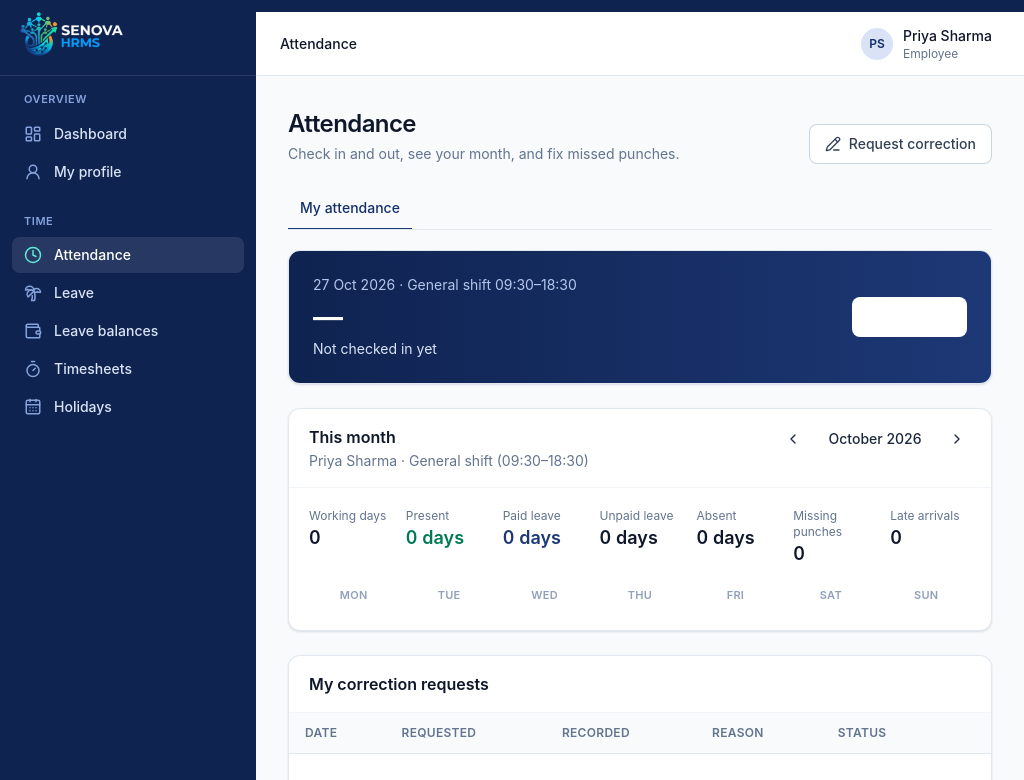
it: attendance › checks in and then offers break and check-out
Click the button "Check in".
click(910, 317)  # box [852,297,967,337]
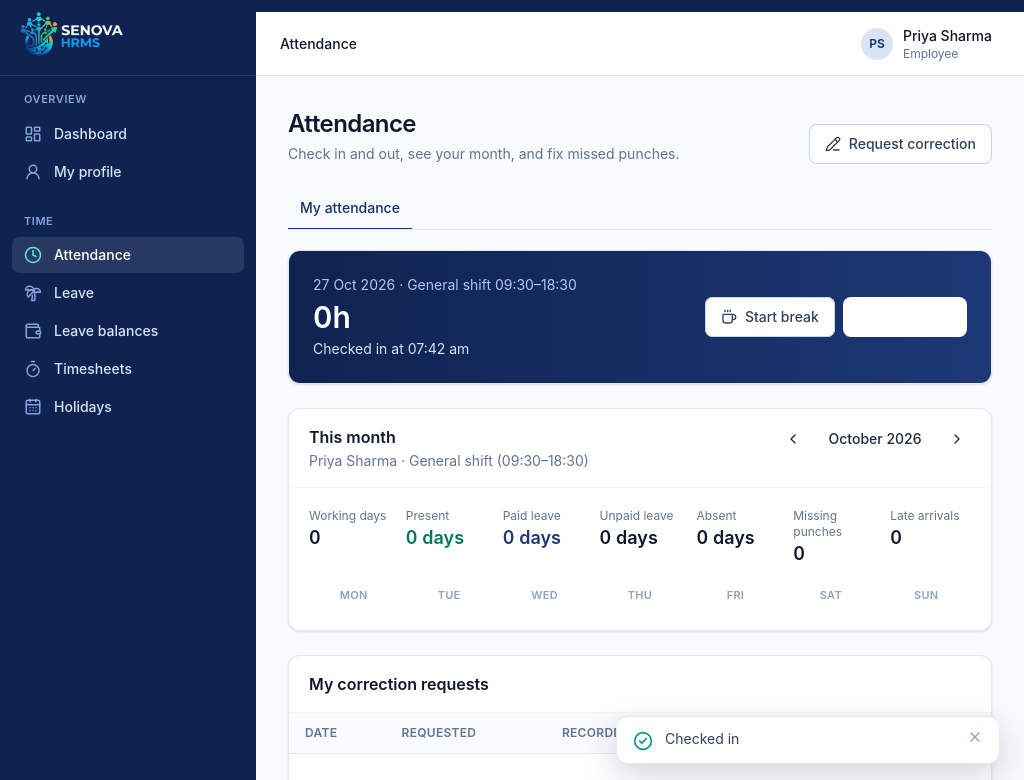
Check: the button "Check out" is shown, box [843,297,967,337]
Check: the button "Start break" is shown, box [705,297,835,337]
